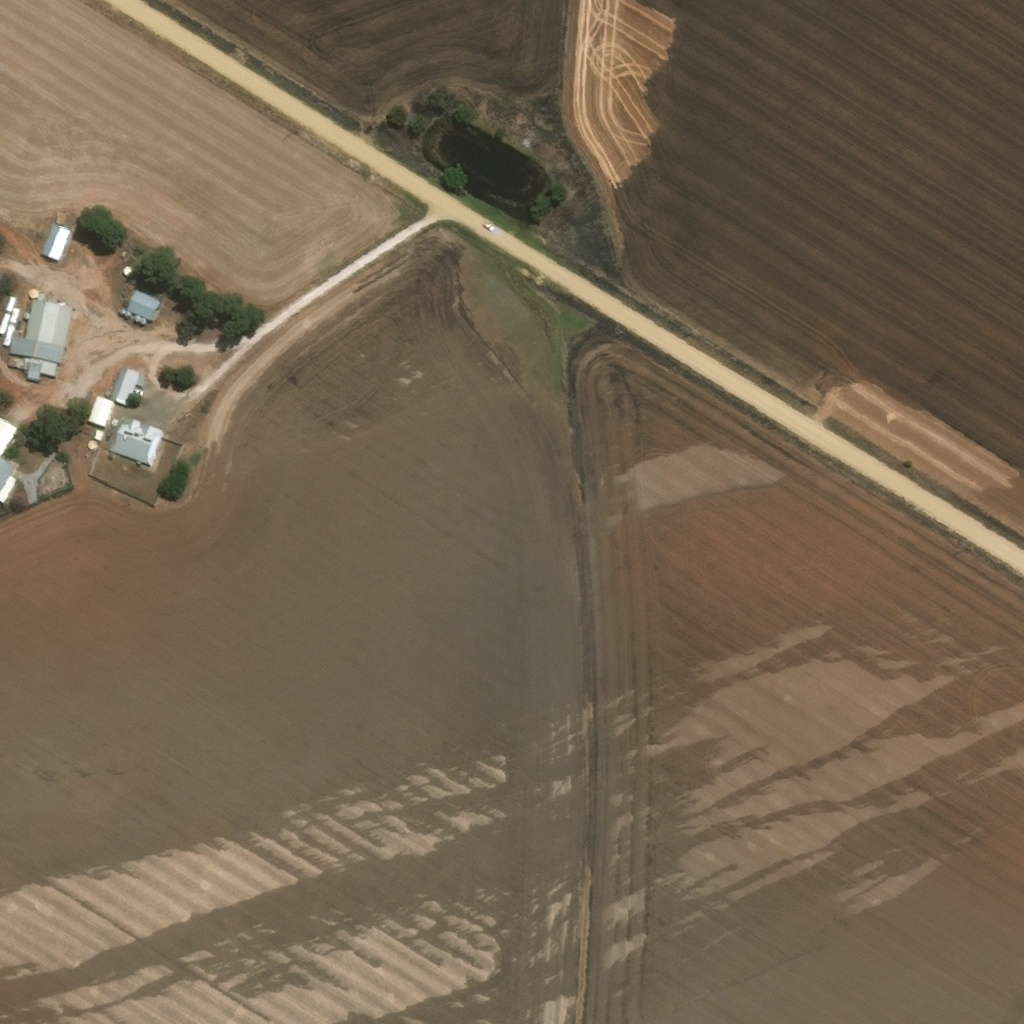0 no-damage: (8, 296, 72, 361), (107, 415, 164, 465), (125, 286, 161, 319), (39, 223, 69, 261), (109, 365, 138, 403), (87, 394, 112, 425), (0, 456, 16, 502), (25, 356, 55, 379), (0, 418, 16, 455), (1, 323, 14, 345), (7, 355, 27, 369), (0, 312, 9, 335), (4, 295, 15, 312), (90, 427, 103, 440), (8, 306, 18, 322), (27, 286, 37, 296), (138, 317, 148, 326), (122, 267, 131, 276), (117, 305, 125, 314), (133, 313, 140, 321), (123, 308, 130, 316)
